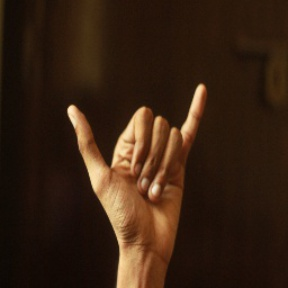J: (65, 73, 206, 255)
